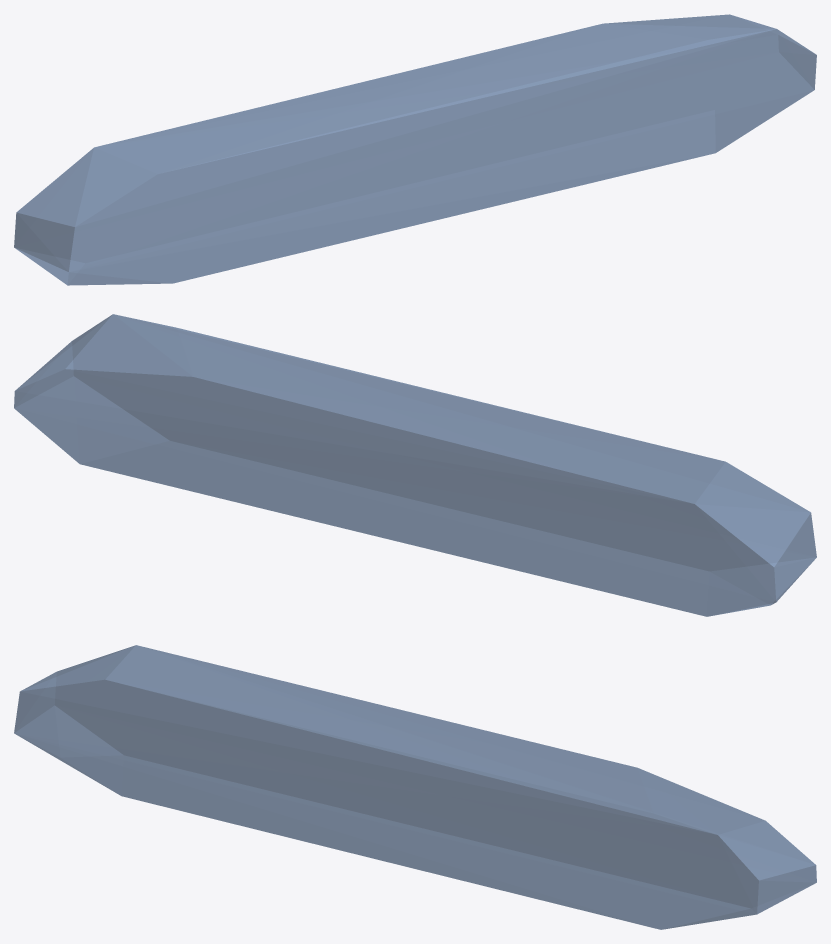
3 renders of one model, top to bottom at view 1: azimuth 30°, elevation 25°; view 2: azimuth 150°, elevation 25°; view 3: azimuth 330°, elevation 25°, orthographic.
Parts seen in each view (by area): view 1: Shape_IndexedFaceSet.153_Shape_IndexedFaceSet.582; view 2: Shape_IndexedFaceSet.153_Shape_IndexedFaceSet.582; view 3: Shape_IndexedFaceSet.153_Shape_IndexedFaceSet.582.
Boxes of the visible parts, bbox=[...] form: Shape_IndexedFaceSet.153_Shape_IndexedFaceSet.582: bbox=[14, 14, 816, 285]; Shape_IndexedFaceSet.153_Shape_IndexedFaceSet.582: bbox=[14, 314, 816, 616]; Shape_IndexedFaceSet.153_Shape_IndexedFaceSet.582: bbox=[14, 645, 816, 929].
Size of the model in its own units: 0.3789 by 0.055 by 0.0424.
